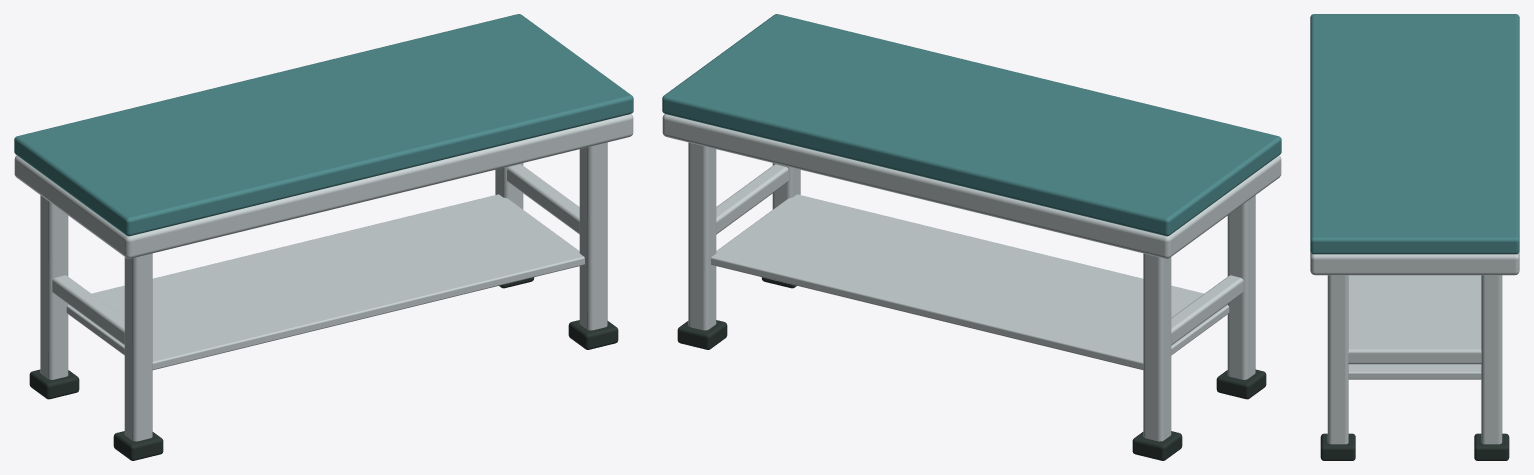
The model's file is mushroom-farm-and-grow-rooms-hygiene-entry-bench-955f314c__30803.glb.
The picture shows the model from 3 angles, left to right: view 1: azimuth 30°, elevation 25°; view 2: azimuth 150°, elevation 25°; view 3: azimuth 270°, elevation 25°; orthographic projection. The views are drawn at different scales.
Parts seen in each view (by area): view 1: hygiene-entry-bench; view 2: hygiene-entry-bench; view 3: hygiene-entry-bench.
Boxes of the visible parts, box(x1,y1,x2,y2) form: hygiene-entry-bench: box(14, 14, 633, 460); hygiene-entry-bench: box(662, 14, 1281, 460); hygiene-entry-bench: box(1310, 14, 1519, 460).
Size of the model in its own units: 1.15 by 0.54 by 0.45.
